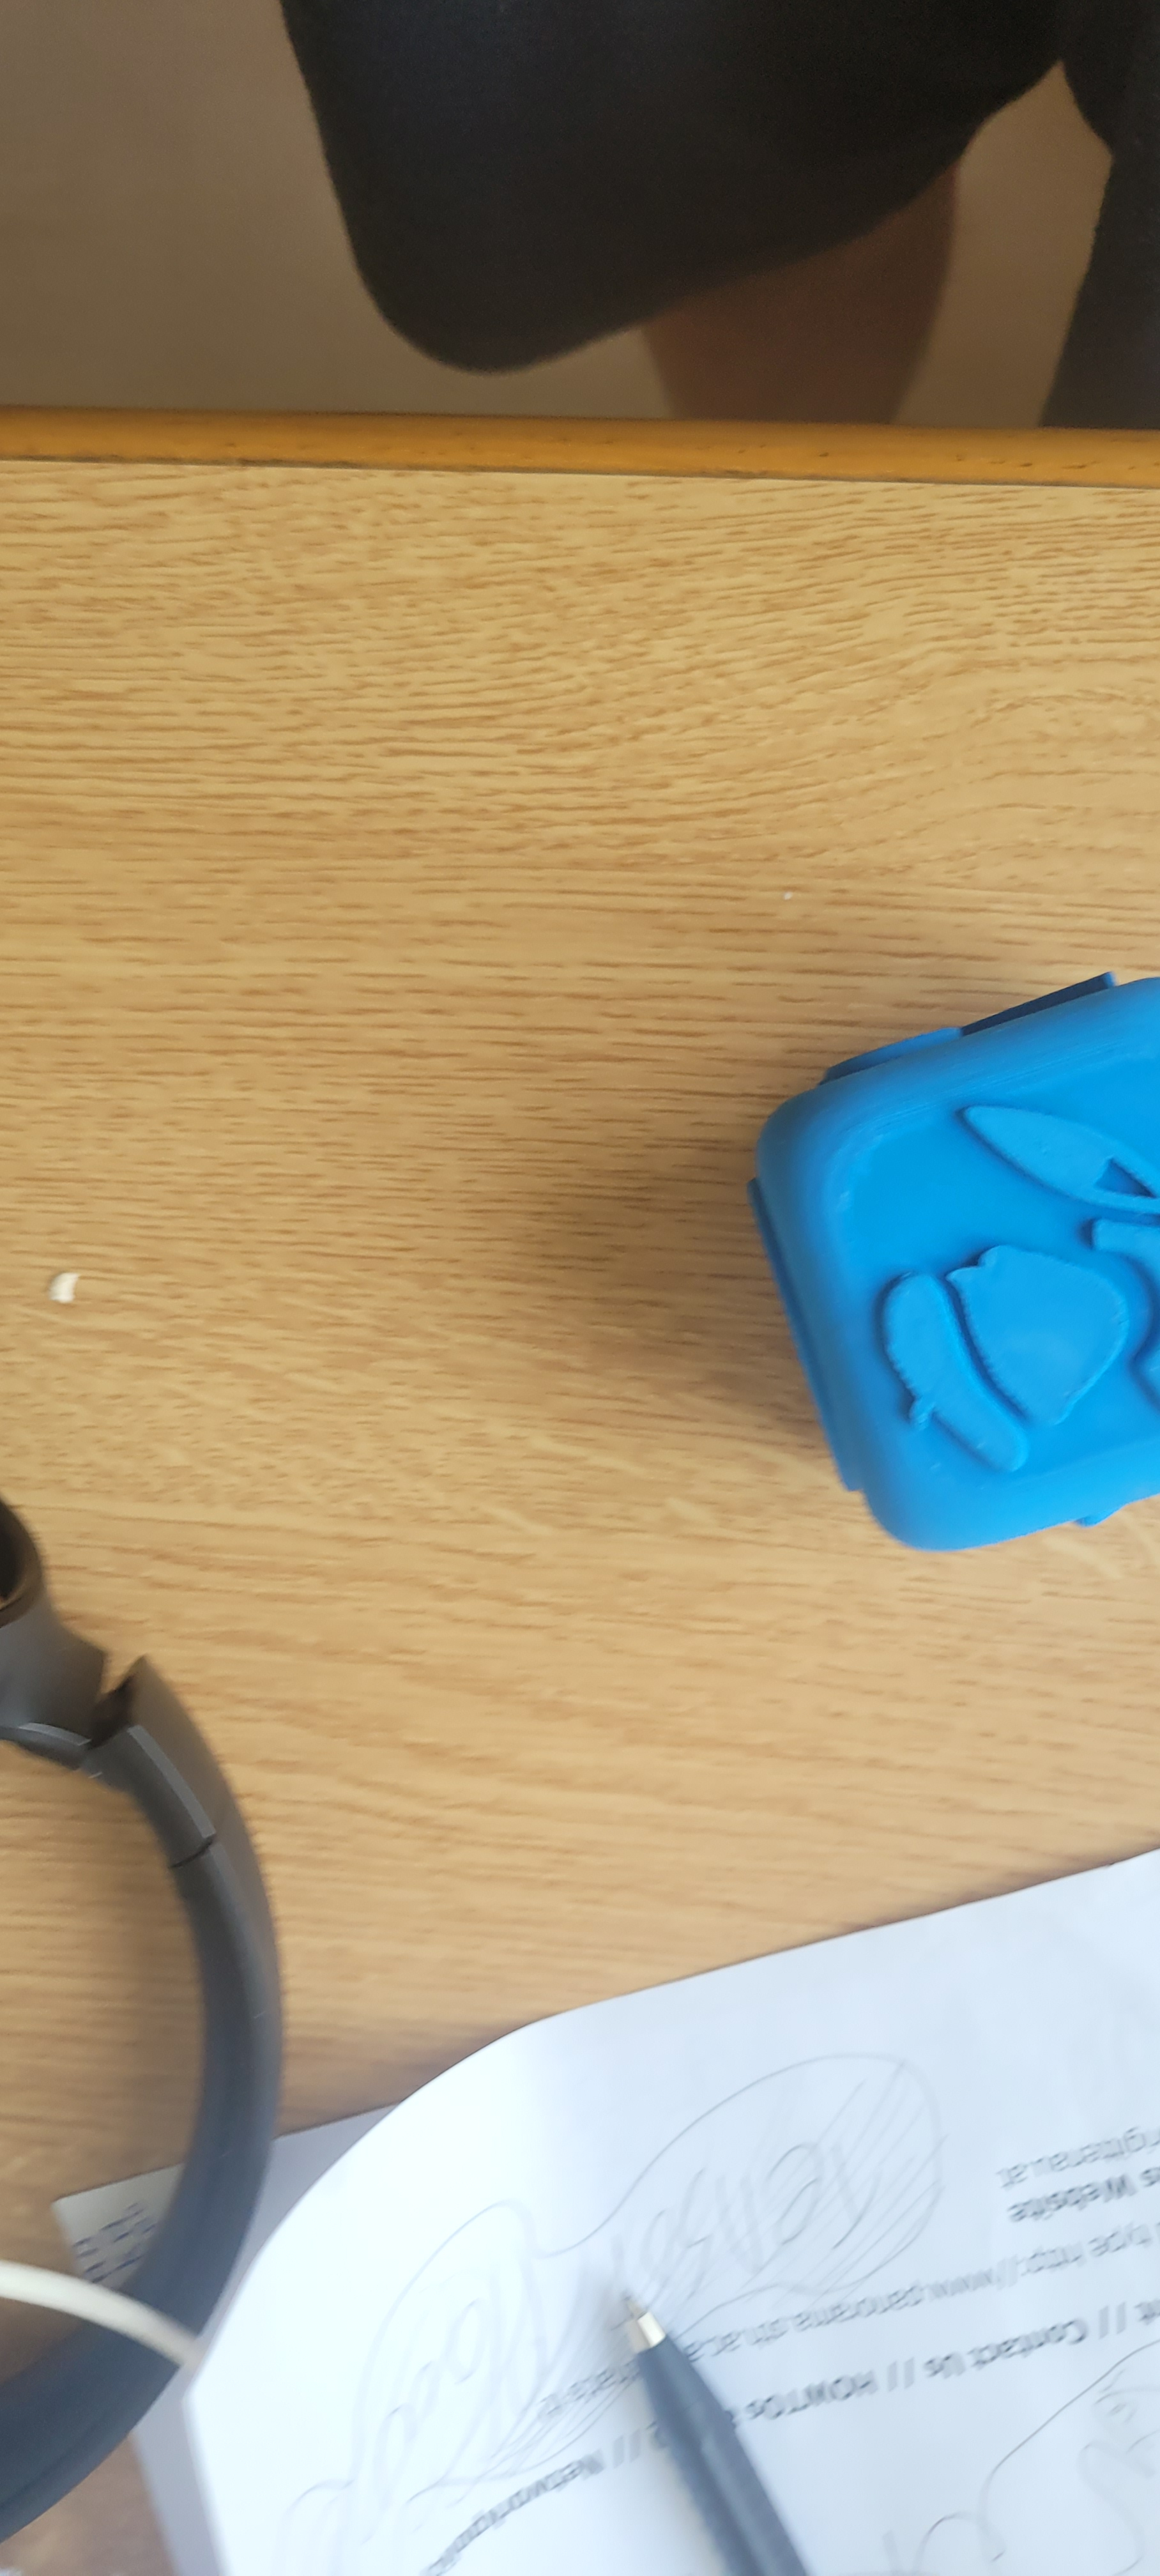Artist_Info: (685, 1046, 1160, 1510)
